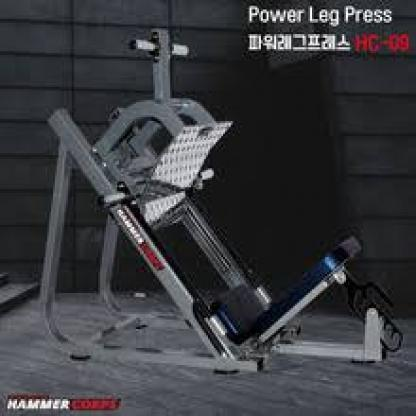leg press: (33, 25, 416, 386)
